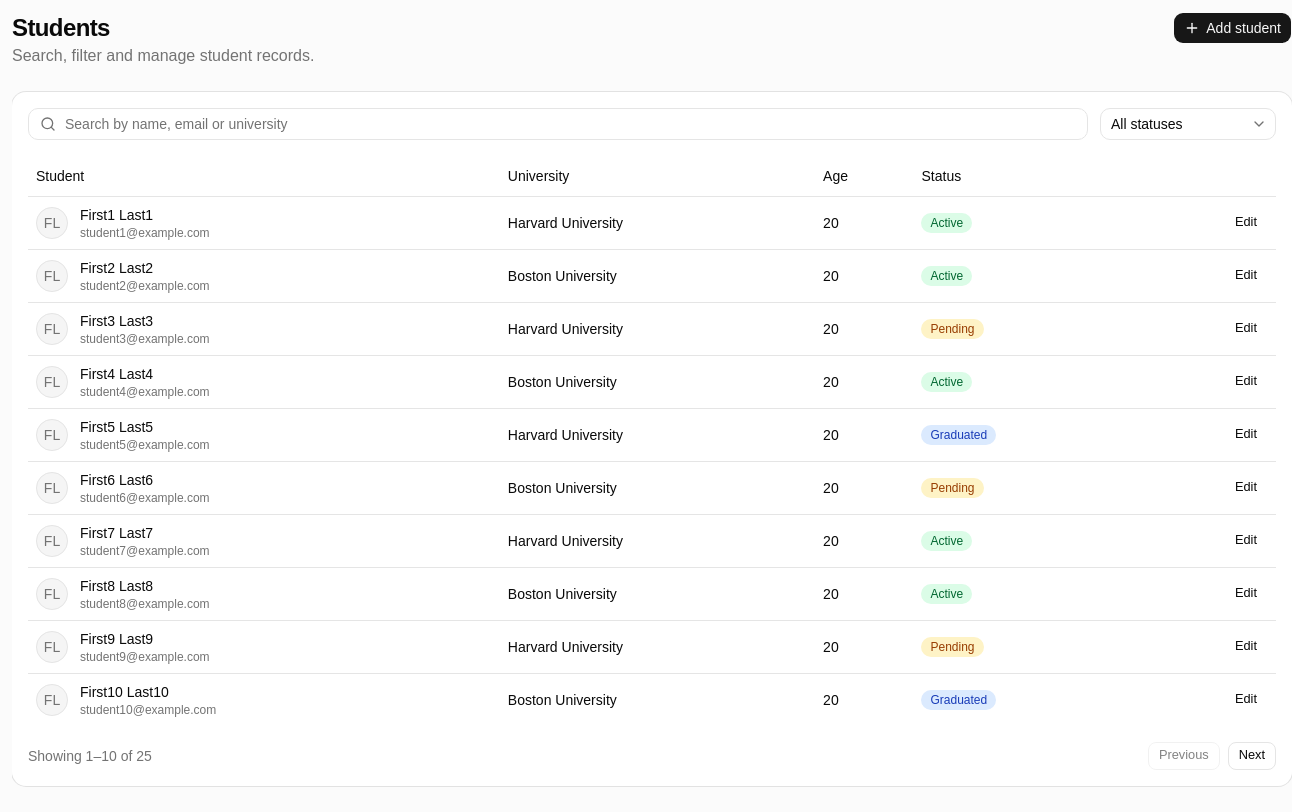
Test: StudentsPage › shows 10 students per page and lets the user page through them
Check: the text "Showing 1–10 of 25" is shown, box x1=28 y1=746 x2=152 y2=766
Click the button "Next" at (1252, 756), box x1=1228 y1=742 x2=1276 y2=770
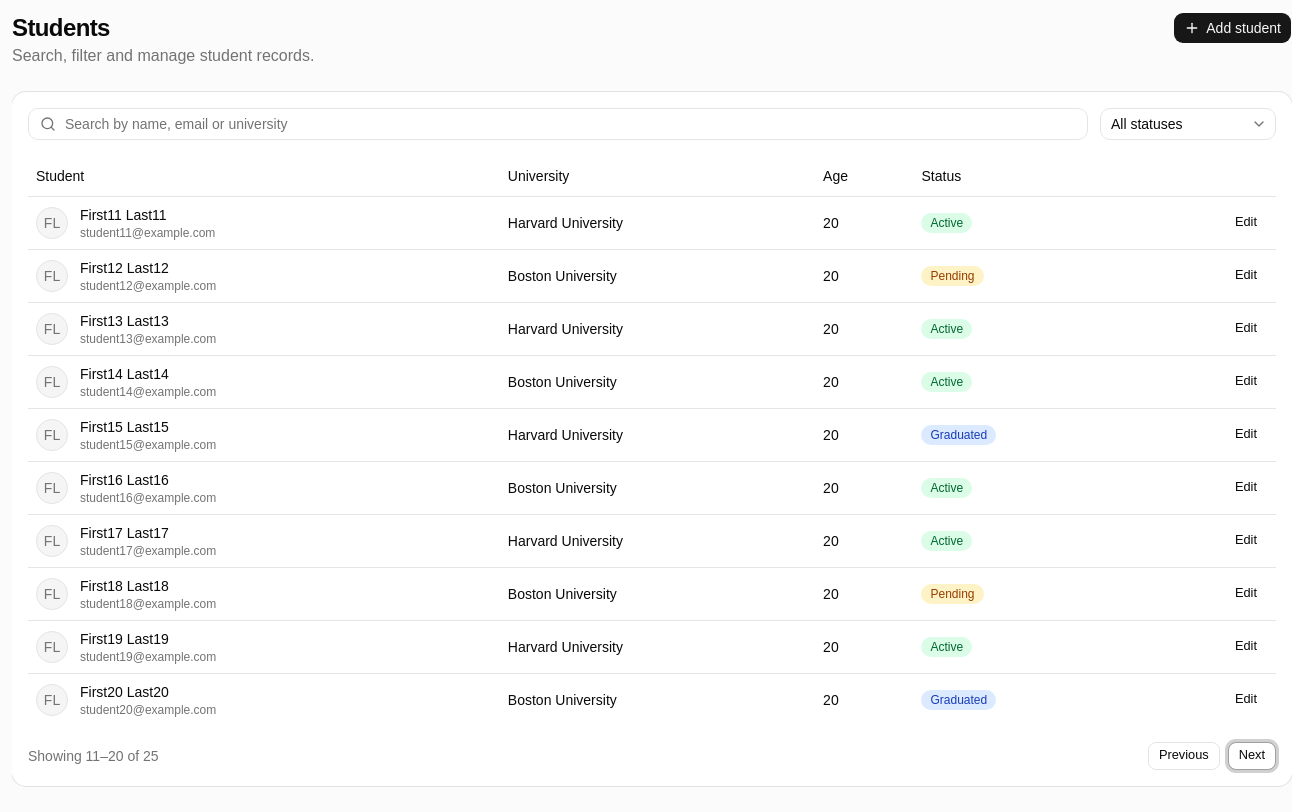
Check: the text "Showing 11–20 of 25" is shown, box x1=28 y1=746 x2=159 y2=766
Click the button "Next" at (1252, 756), box x1=1228 y1=742 x2=1276 y2=770
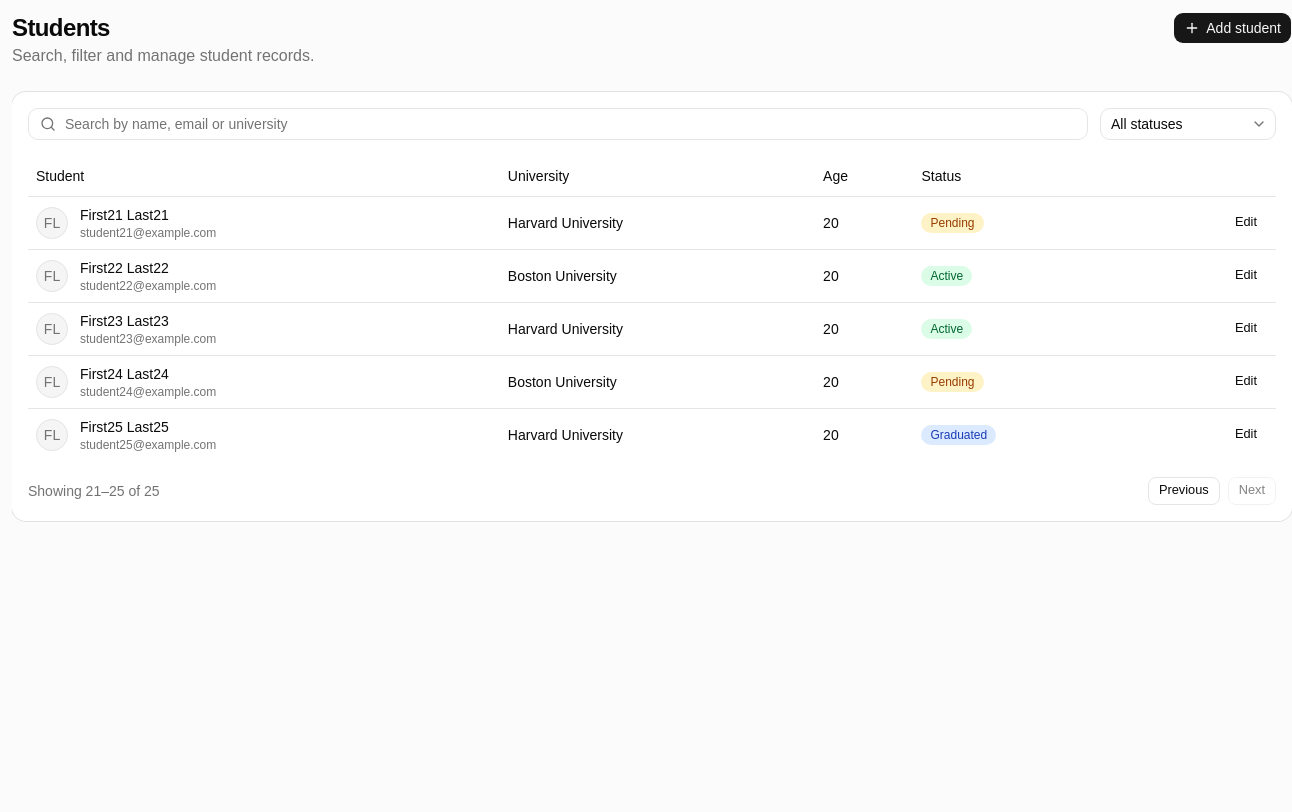
Check: the text "Showing 21–25 of 25" is shown, box x1=28 y1=480 x2=160 y2=500
Check: the button "Next" is disabled, box x1=1228 y1=476 x2=1276 y2=504
